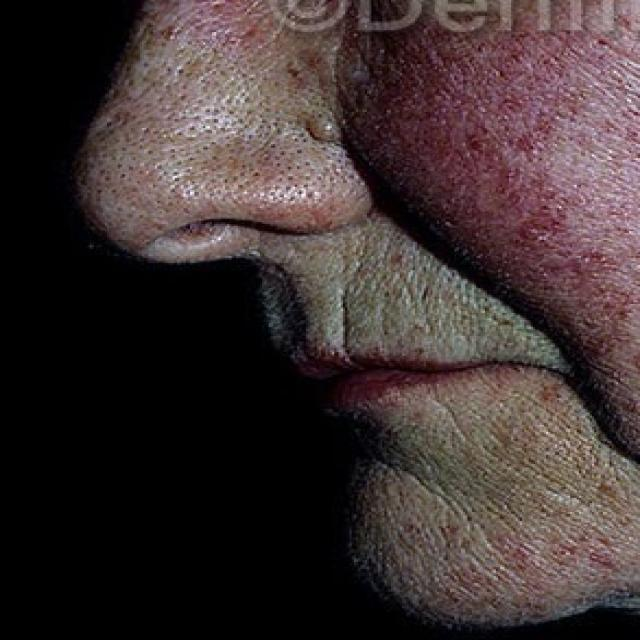Rosacea: (402, 58, 608, 256)
